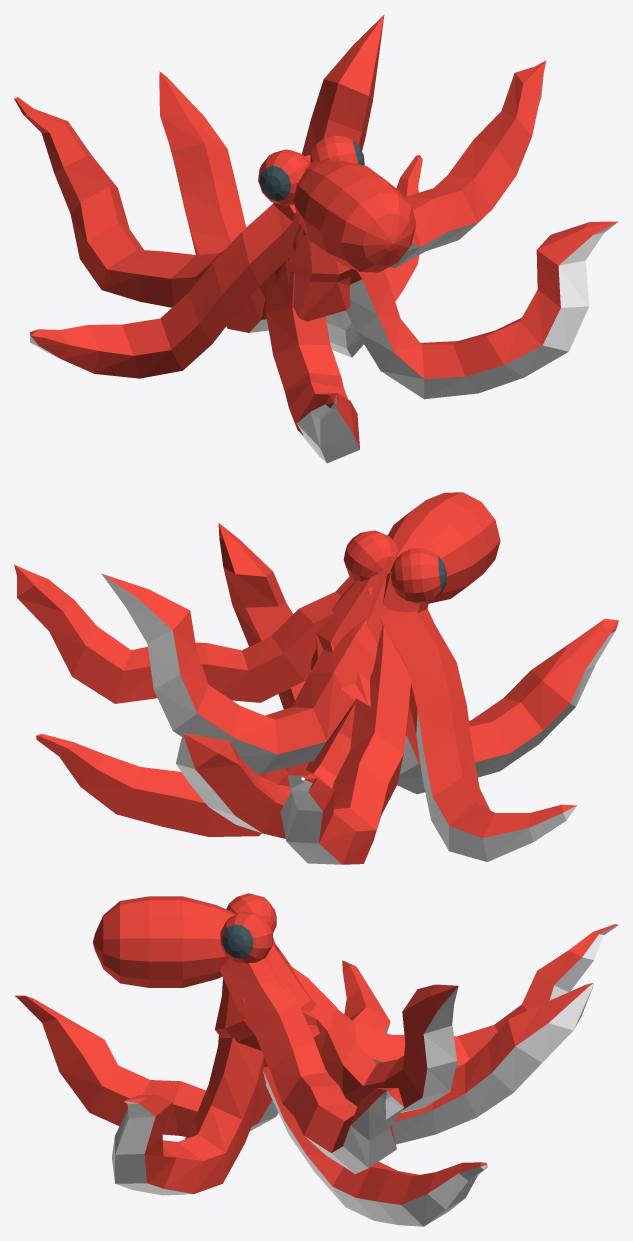
The model's file is model-triangulated.obj.
3 renders of one model, top to bottom at view 1: azimuth 30°, elevation 25°; view 2: azimuth 150°, elevation 25°; view 3: azimuth 270°, elevation 25°, orthographic. The views are drawn at different scales.
Parts seen in each view (by area): view 1: group224870592, group1628491016, group270127215, group652527150, group1445022660, group1397382454, group356780838, group1219829865, group42711055, group295158179, group1890692351, group1984784645; view 2: group1219829865, group1628491016, group652527150, group270127215, group356780838, group1397382454, group295158179, group1445022660, group224870592, group42711055, group1890692351, group1984784645; view 3: group652527150, group224870592, group1219829865, group1445022660, group1397382454, group356780838, group295158179, group270127215, group42711055, group1984784645, group1628491016, group1890692351.
Part boxes in pixels (x1,y1,x2,y2): group224870592: [346, 221, 618, 399]; group1628491016: [30, 204, 299, 378]; group270127215: [14, 97, 225, 307]; group652527150: [390, 60, 546, 268]; group1445022660: [293, 160, 416, 272]; group1397382454: [159, 71, 297, 332]; group356780838: [266, 224, 359, 463]; group1219829865: [302, 15, 384, 161]; group42711055: [286, 154, 354, 321]; group295158179: [303, 155, 422, 357]; group1890692351: [258, 149, 310, 206]; group1984784645: [309, 135, 364, 165]; group1219829865: [101, 557, 394, 774]; group1628491016: [367, 587, 576, 861]; group652527150: [14, 564, 354, 703]; group270127215: [280, 625, 411, 864]; group356780838: [397, 618, 618, 794]; group1397382454: [176, 572, 428, 838]; group295158179: [36, 734, 309, 836]; group1445022660: [387, 492, 500, 603]; group224870592: [218, 523, 306, 709]; group42711055: [311, 558, 394, 706]; group1890692351: [390, 548, 446, 604]; group1984784645: [343, 530, 397, 581]; group652527150: [220, 958, 403, 1173]; group224870592: [112, 978, 265, 1195]; group1219829865: [291, 966, 458, 1112]; group1445022660: [92, 896, 235, 987]; group1397382454: [273, 937, 593, 1144]; group356780838: [14, 995, 278, 1136]; group295158179: [263, 1066, 487, 1226]; group270127215: [338, 924, 618, 1068]; group42711055: [215, 940, 319, 1066]; group1984784645: [220, 911, 272, 963]; group1628491016: [274, 945, 390, 1032]; group1890692351: [226, 893, 276, 932].
Bounding box in the file's own units: 1.42 × 0.6962 × 1.45.
